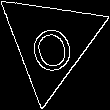O_N: (23, 11, 78, 74)
